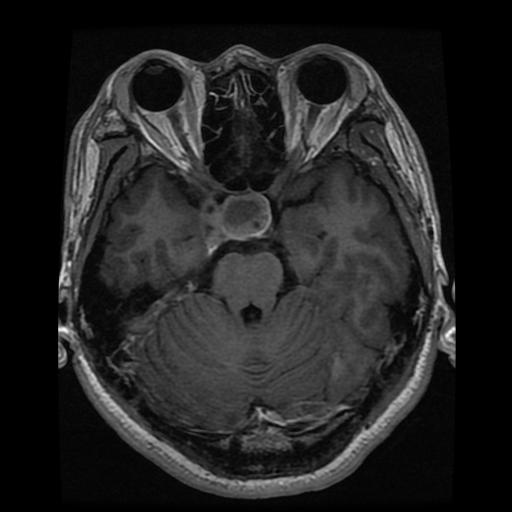Pituirity_tumour: (214, 188, 270, 240)
